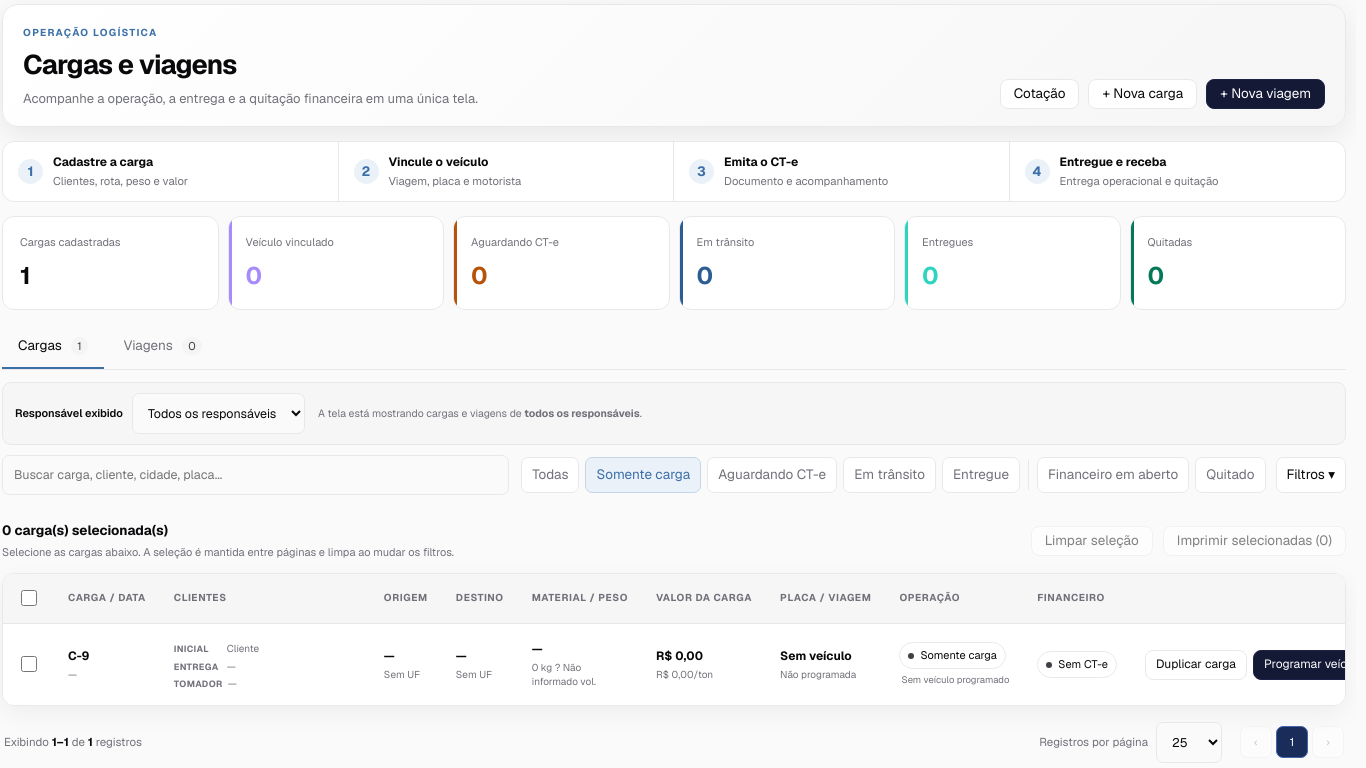
Test case: busca cadastro completo antes de duplicar e trata falha sem abrir cópia incompleta
The width and height of the screenshot is (1366, 768).
Click the button "Duplicar carga" at (1196, 664), box [1145,650,1247,680]
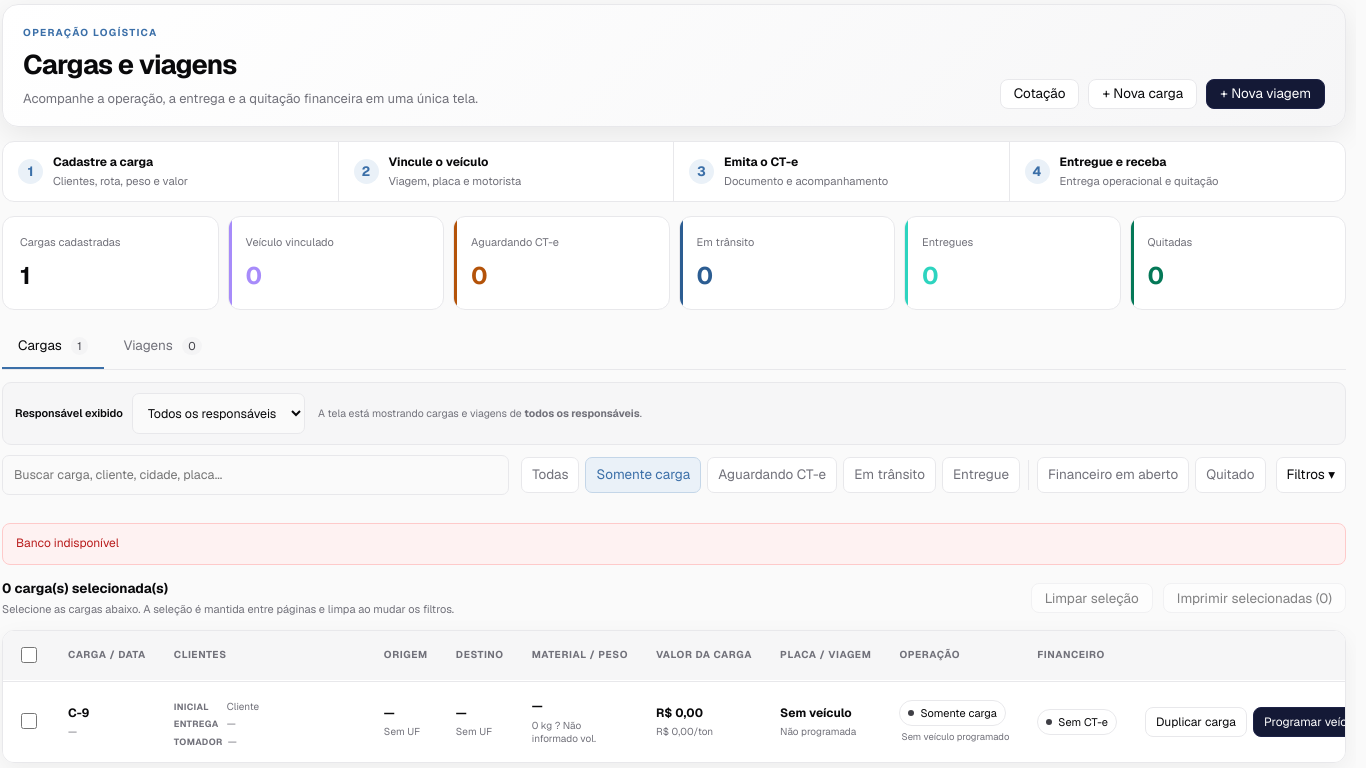
Check: the text "Duplicar carga C-9" is not shown
Check: the text "Banco indisponível" is shown, box [2,523,1346,565]
Click the button "Duplicar carga" at (1196, 722), box [1145,707,1247,737]
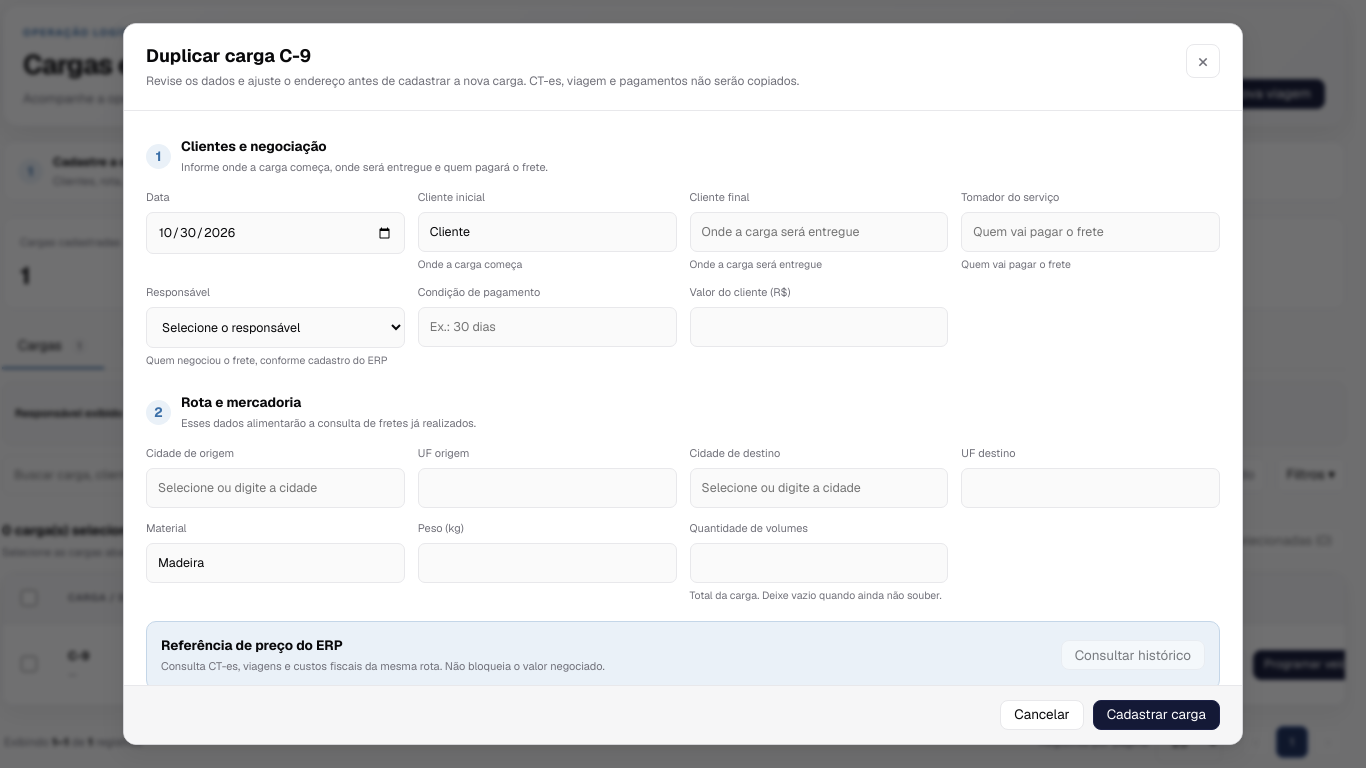
Check: the heading "Duplicar carga C-9" is shown, box [146,44,311,67]
Check: the field labelled "Material" holds "Madeira", box [146,543,405,583]
